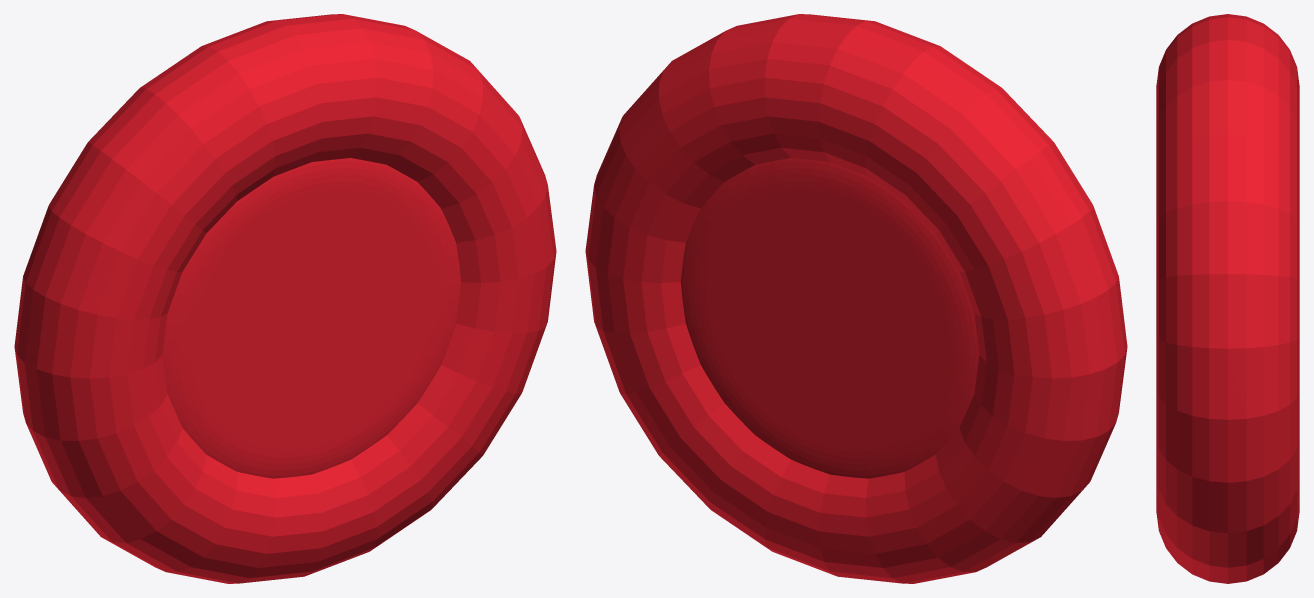
The model's file is red_blood_cell.obj.
The picture shows the model from 3 angles, left to right: view 1: azimuth 30°, elevation 25°; view 2: azimuth 150°, elevation 25°; view 3: azimuth 270°, elevation 25°; orthographic projection. The views are drawn at different scales.
Parts seen in each view (by area): view 1: obj_0; view 2: obj_0; view 3: obj_0.
Boxes of the visible parts, x1,y1,x2,y2 form: obj_0: (14, 14, 556, 583); obj_0: (585, 14, 1127, 583); obj_0: (1156, 14, 1299, 583).
Size of the model in its own units: 40 by 40 by 10.
